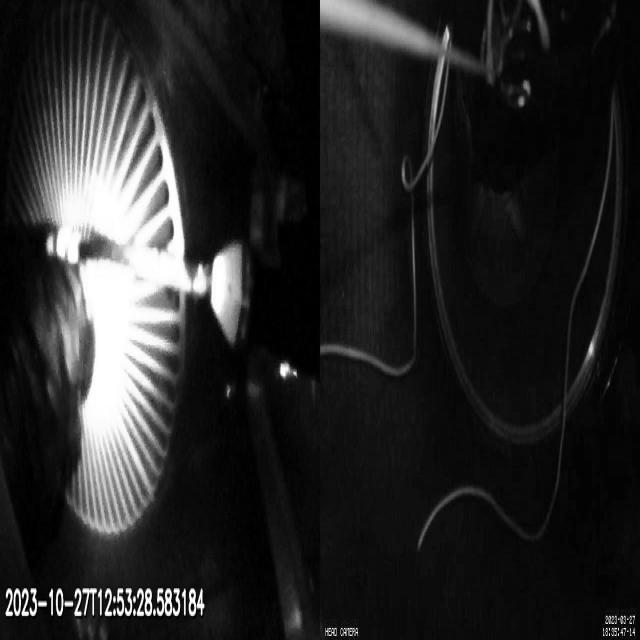head: (212, 236, 252, 347)
white-dots: (46, 222, 79, 264)
